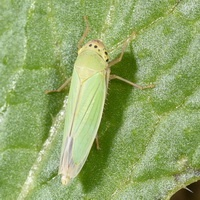insect: (47, 22, 153, 184)
